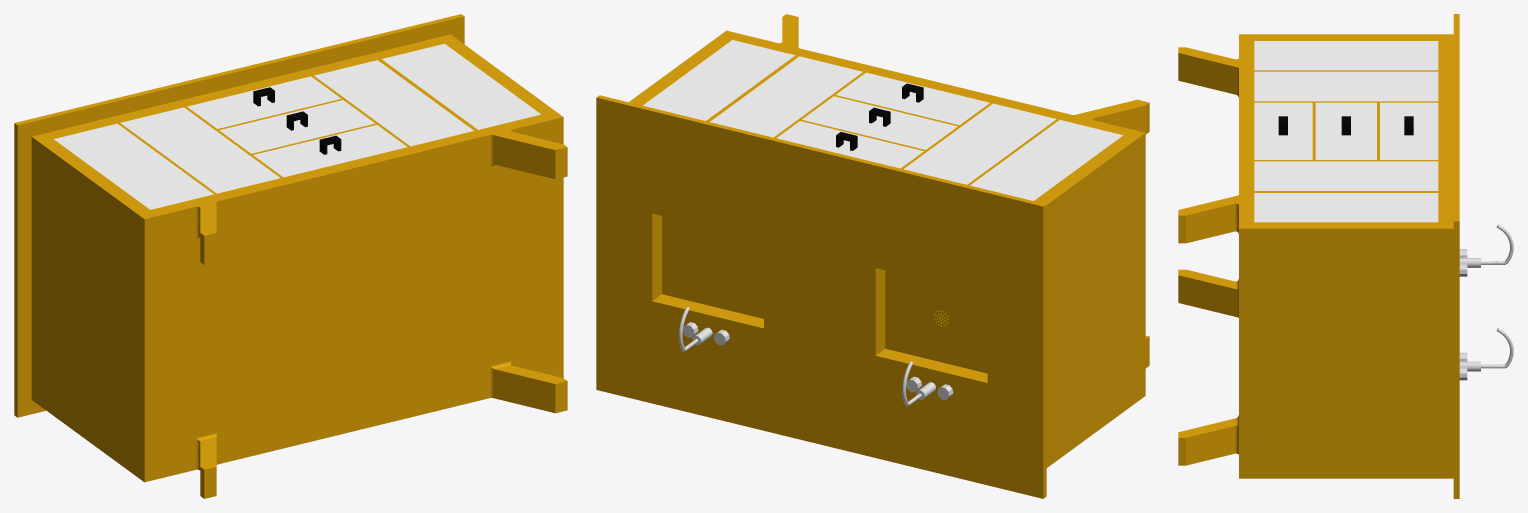
The model's file is kitchen_sink.dae.
3 views of the same model, side by side, from view 1: azimuth 30°, elevation 25°; view 2: azimuth 150°, elevation 25°; view 3: azimuth 270°, elevation 25° (orthographic). The views are drawn at different scales.
Visible parts, largest first — view 1: node14, node15, node8, node7, node5, node18, node6, node4; view 2: node14, node7, node15, node8, node5, node18, node6, node4; view 3: node14, node15, node7, node8, node5, node18, node4, node6.
Part boxes in pixels (<box>): node14: <box>14,14,567,498</box>; node15: <box>120,107,280,193</box>; node8: <box>54,123,213,209</box>; node7: <box>314,60,473,146</box>; node5: <box>382,43,540,129</box>; node18: <box>219,100,374,153</box>; node6: <box>253,125,407,177</box>; node4: <box>187,76,341,128</box>; node14: <box>596,14,1149,498</box>; node7: <box>710,56,862,137</box>; node15: <box>903,103,1056,184</box>; node8: <box>970,120,1122,200</box>; node5: <box>643,40,794,120</box>; node18: <box>802,96,957,149</box>; node6: <box>836,72,989,124</box>; node4: <box>776,121,923,168</box>; node14: <box>1178,14,1459,498</box>; node15: <box>1254,71,1438,101</box>; node7: <box>1254,161,1438,190</box>; node8: <box>1254,41,1438,70</box>; node5: <box>1254,193,1438,222</box>; node18: <box>1315,102,1376,159</box>; node4: <box>1380,102,1438,159</box>; node6: <box>1254,102,1312,159</box>.
Size of the model in its own units: 2.03 by 1.39 by 1.27.
